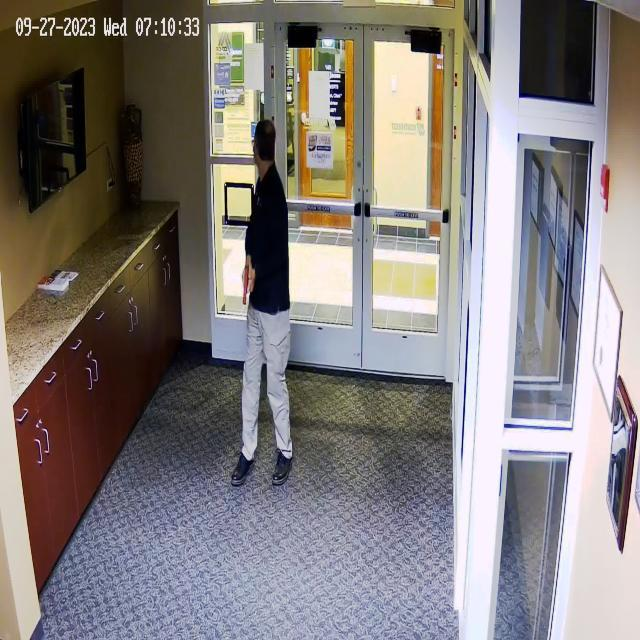Gun: (228, 260, 270, 310)
